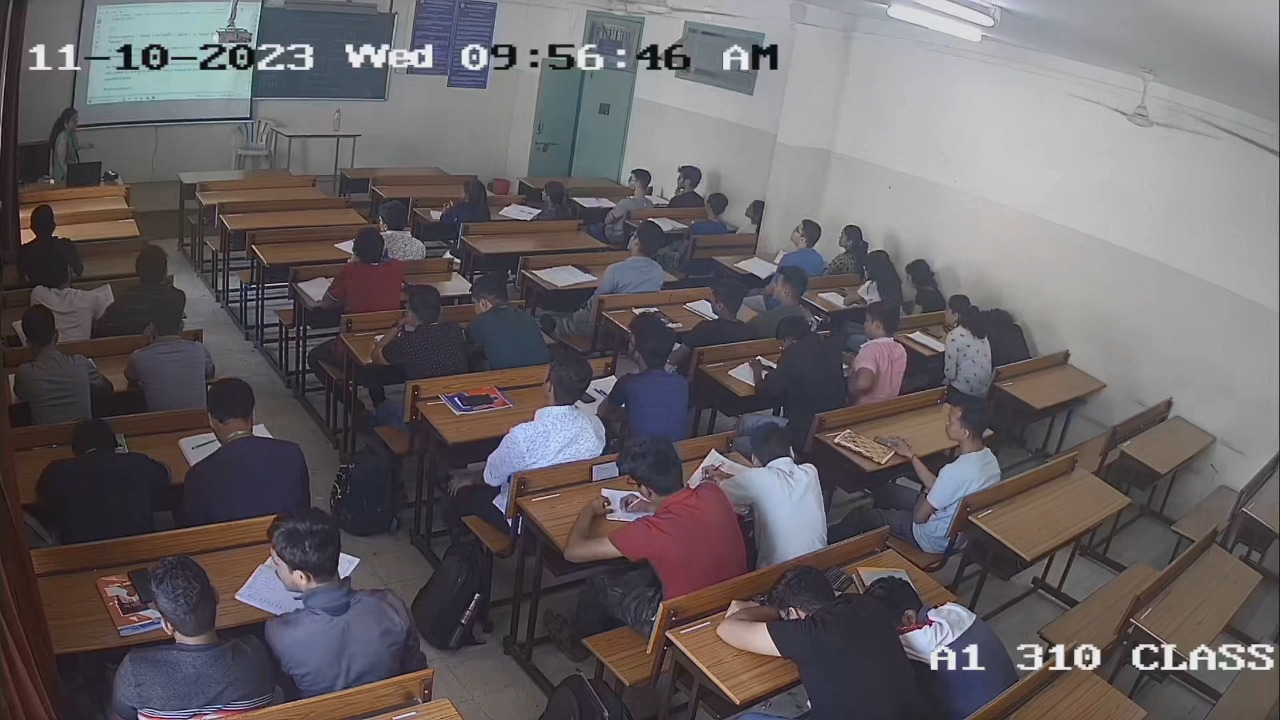cell-phones: (127, 565, 164, 605), (872, 434, 913, 453), (590, 460, 621, 483), (567, 386, 597, 404), (458, 393, 494, 406), (920, 325, 944, 340), (757, 362, 776, 373)
person: (107, 552, 277, 720), (598, 434, 751, 602), (906, 392, 1005, 544), (492, 353, 607, 475), (610, 309, 691, 447), (767, 316, 844, 396), (938, 293, 990, 356)
